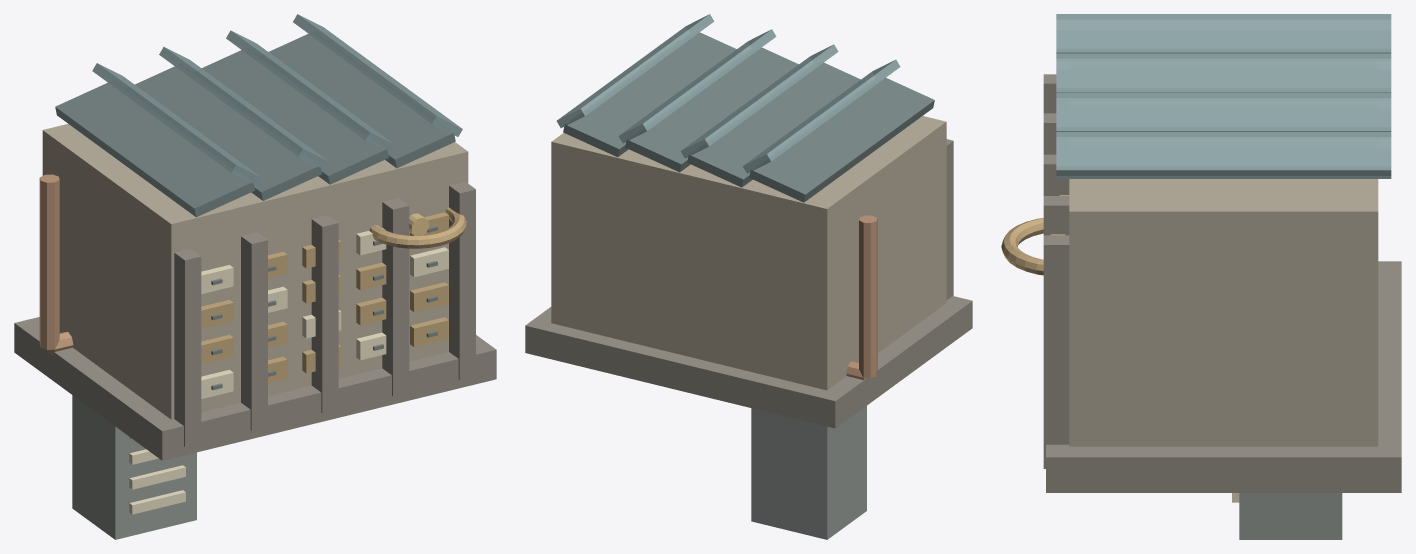
File: session-archive.glb
The picture shows the model from 3 angles, left to right: view 1: azimuth 30°, elevation 25°; view 2: azimuth 150°, elevation 25°; view 3: azimuth 270°, elevation 25°; orthographic projection. The views are drawn at different scales.
Visible parts, largest first — view 1: archive_body, archive_plinth, archive_roof_a_0, archive_shaft, archive_roof_a_1, archive_roof_a_2, archive_roof_a_3, buttress_-1.85, buttress_-0.95, buttress_0, buttress_1.85, buttress_0.95 (+18 smaller); view 2: archive_body, archive_plinth, archive_shaft, archive_roof_a_0, archive_roof_a_2, archive_roof_a_3, archive_roof_a_1, chute, archive_roof_b_1, archive_roof_b_2, archive_roof_b_0, archive_roof_b_3 (+1 smaller); view 3: archive_body, archive_plinth, archive_roof_b_3, archive_roof_b_2, archive_roof_b_0, archive_roof_b_1, buttress_1.85, archive_shaft, archive_roof_a_3, registry_ring, archive_roof_a_0, archive_roof_a_1 (+5 smaller).
Boxes of the visible parts, <box> form: archive_body: <box>42,124,468,419</box>; archive_plinth: <box>14,317,496,460</box>; archive_roof_a_0: <box>55,80,255,217</box>; archive_shaft: <box>72,395,196,539</box>; archive_roof_a_1: <box>135,64,321,200</box>; archive_roof_a_2: <box>201,48,388,184</box>; archive_roof_a_3: <box>269,31,455,168</box>; buttress_-1.85: <box>174,248,201,446</box>; buttress_-0.95: <box>241,232,267,430</box>; buttress_0: <box>311,215,338,413</box>; buttress_1.85: <box>449,181,475,379</box>; buttress_0.95: <box>382,198,409,396</box>; archive_body: <box>551,116,946,390</box>; archive_plinth: <box>525,296,972,428</box>; archive_shaft: <box>751,406,866,539</box>; archive_roof_a_0: <box>749,76,934,202</box>; archive_roof_a_2: <box>625,45,798,172</box>; archive_roof_a_3: <box>563,30,736,157</box>; archive_roof_a_1: <box>687,60,860,187</box>; chute: <box>859,215,877,378</box>; archive_roof_b_1: <box>680,44,838,158</box>; archive_roof_b_2: <box>618,29,776,143</box>; archive_roof_b_0: <box>742,59,900,173</box>; archive_roof_b_3: <box>556,14,714,127</box>; archive_body: <box>1069,179,1378,446</box>; archive_plinth: <box>1046,261,1401,492</box>; archive_roof_b_3: <box>1056,131,1391,175</box>; archive_roof_b_2: <box>1056,92,1391,131</box>; archive_roof_b_0: <box>1056,14,1391,53</box>; archive_roof_b_1: <box>1056,53,1391,92</box>; buttress_1.85: <box>1043,235,1069,468</box>; archive_shaft: <box>1239,493,1342,539</box>; archive_roof_a_3: <box>1056,167,1391,178</box>; registry_ring: <box>1001,218,1043,275</box>; archive_roof_a_0: <box>1057,49,1390,52</box>; archive_roof_a_1: <box>1057,88,1390,91</box>.
Size of the model in its own units: 4.62 by 5.4 by 3.89.
